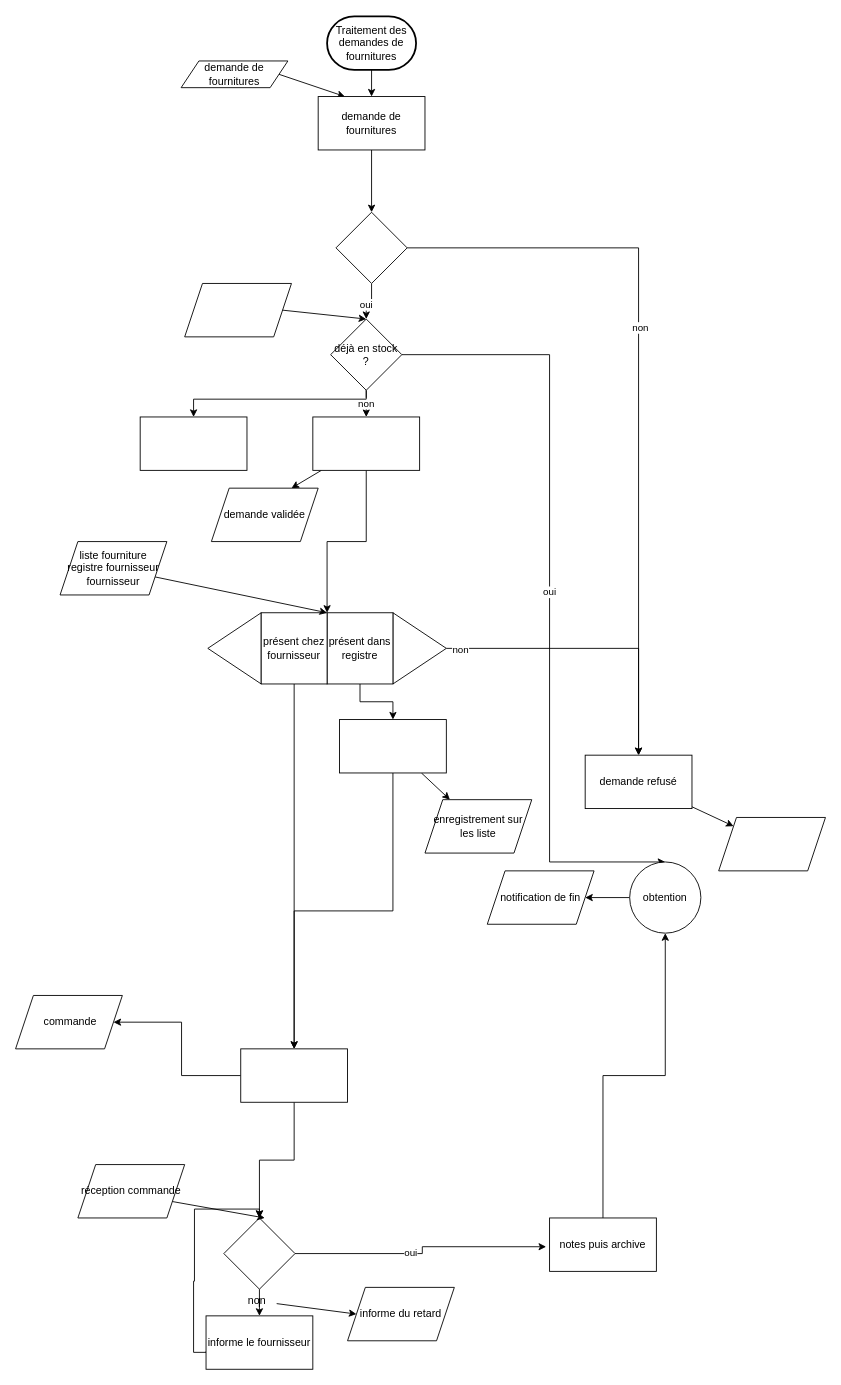
This 841x1385 diagram has some shape labels left out. The box of each missing label's shape, as (x1, y1, x2, y2) in pixels:
ajoute sur les liste de fourniture: (339, 719, 446, 773)
apposition du visa: (312, 416, 420, 470)
archivage demande: (139, 416, 247, 470)
commande chez fournisseur: (240, 1048, 348, 1102)
conforme ?: (223, 1217, 295, 1289)
demande correcte ?: (335, 211, 407, 283)
notification de refus: (718, 817, 825, 871)
stocks: (184, 283, 291, 337)
